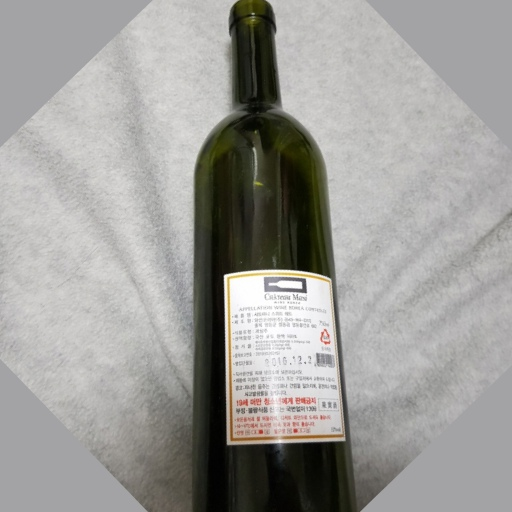Glass_2: (182, 1, 358, 512)
